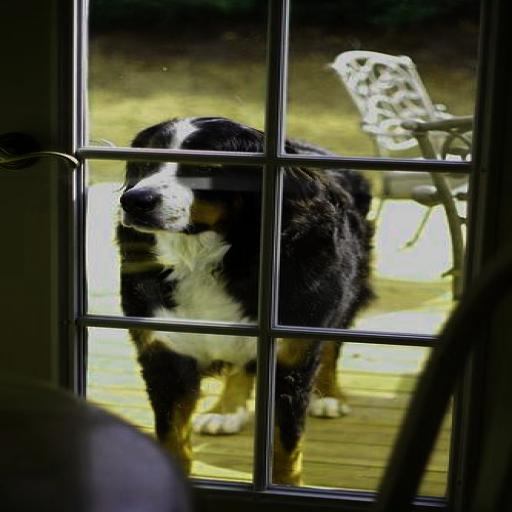dog_face: (113, 112, 278, 236)
